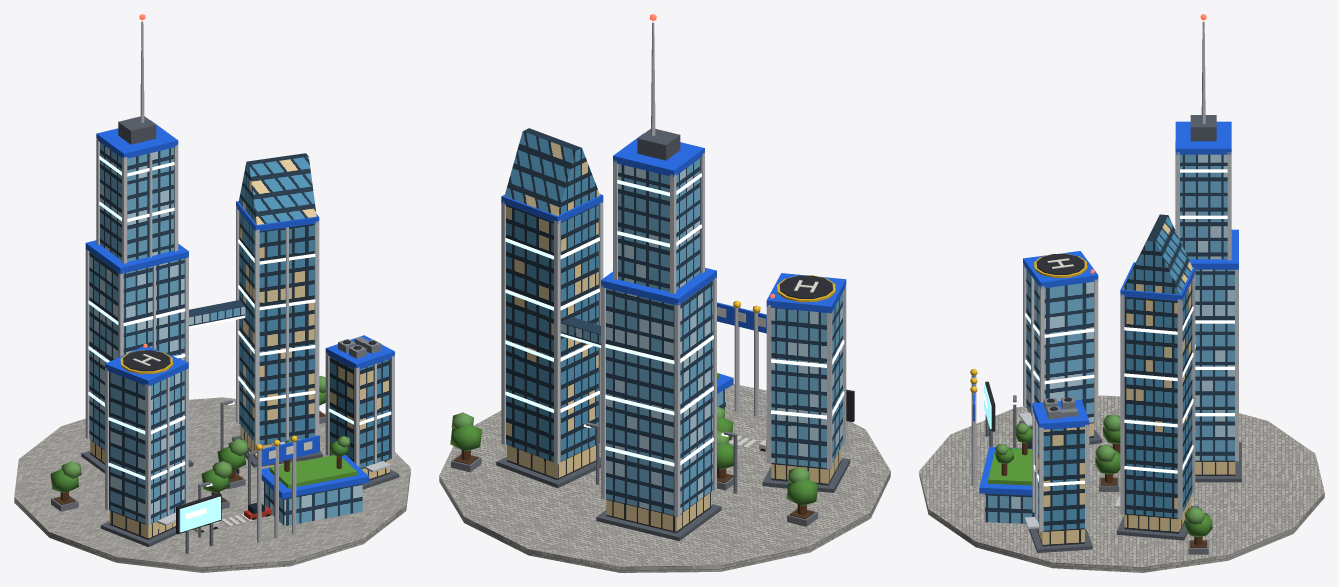
The model's file is city_dl7_blue.glb.
The picture shows the model from 3 angles, left to right: view 1: azimuth 30°, elevation 25°; view 2: azimuth 150°, elevation 25°; view 3: azimuth 270°, elevation 25°; orthographic projection. The views are drawn at different scales.
Parts seen in each view (by area): view 1: city_dl7_blue; view 2: city_dl7_blue; view 3: city_dl7_blue.
Part boxes in pixels (x1=…): city_dl7_blue: x1=14, y1=14, x2=410, y2=572; city_dl7_blue: x1=439, y1=14, x2=890, y2=572; city_dl7_blue: x1=919, y1=14, x2=1324, y2=572.
Size of the model in its own units: 1.59 by 1.98 by 1.59.
Materials: 6 (1 with a texture image).
